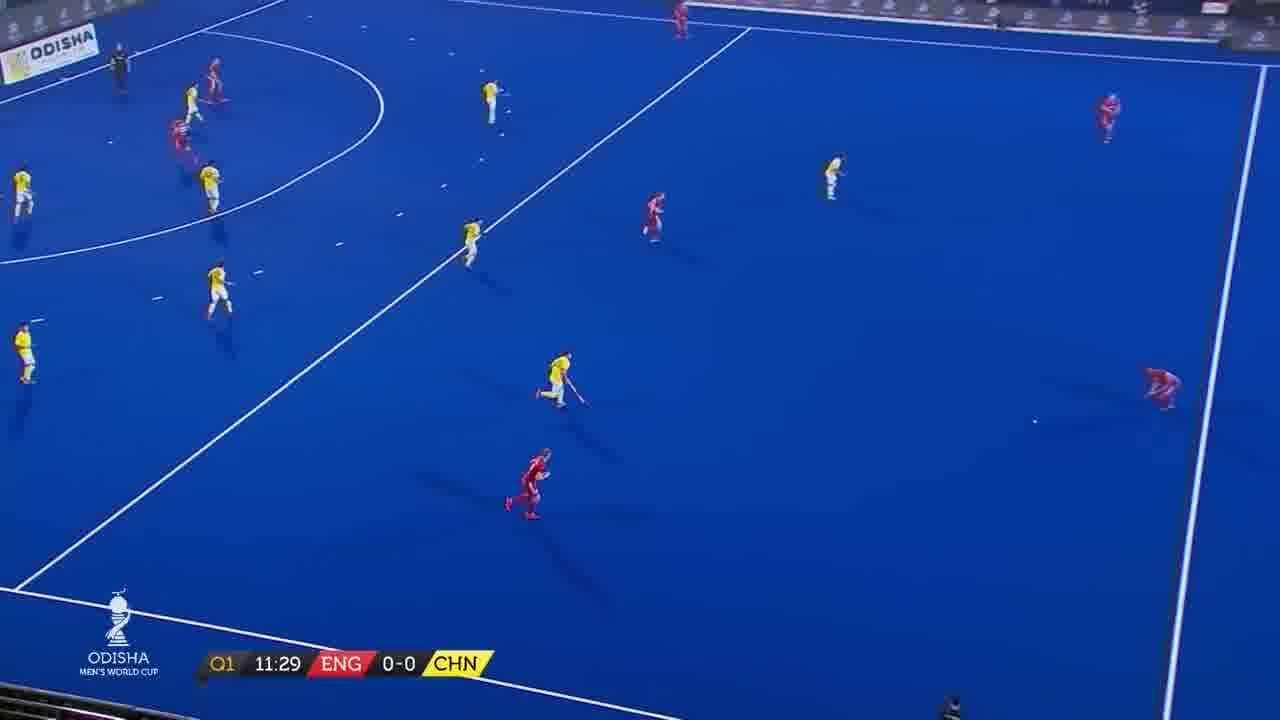ball: (1028, 413, 1043, 430)
